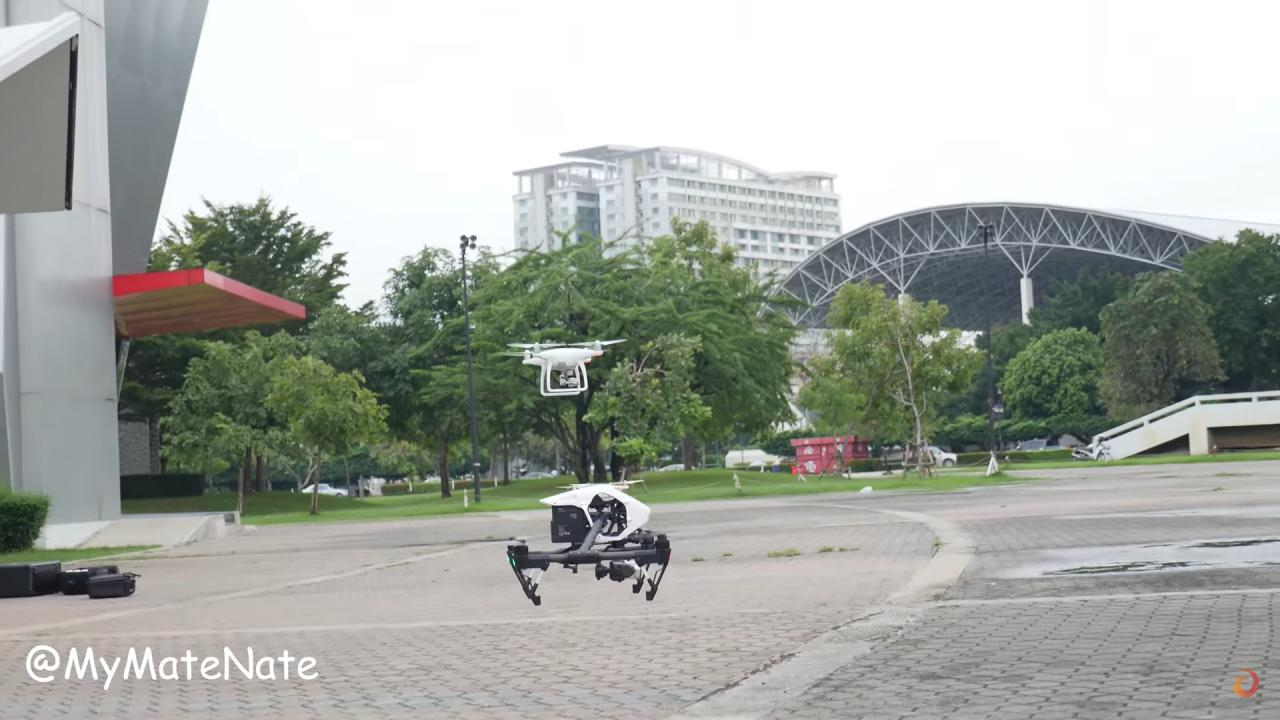Drone: (499, 481, 682, 614), (489, 331, 631, 402)
